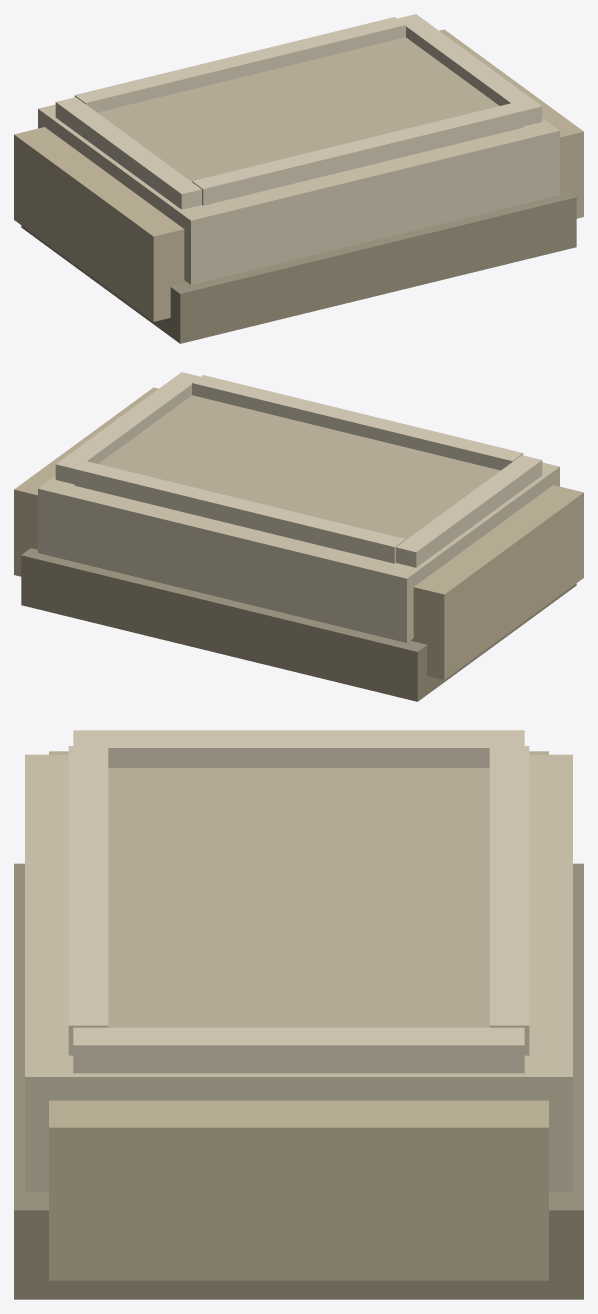
The model's file is CMU3DSoapBar.glb.
3 views of the same model, one above another, from view 1: azimuth 30°, elevation 25°; view 2: azimuth 150°, elevation 25°; view 3: azimuth 270°, elevation 25° (orthographic). The views are drawn at different scales.
Visible parts, largest first — view 1: soap rounded top, top inset, raised soap rim (×4), soap lower edge, soap body; view 2: soap rounded top, top inset, raised soap rim (×4), soap lower edge, soap body; view 3: top inset, soap body, raised soap rim (×4), soap rounded top, soap lower edge.
Part boxes in pixels (x1=…): soap rounded top: x1=38, y1=104, x2=559, y2=284; top inset: x1=97, y1=37, x2=499, y2=181; raised soap rim (×4): x1=55, y1=14, x2=542, y2=209; soap lower edge: x1=21, y1=190, x2=576, y2=343; soap body: x1=14, y1=29, x2=583, y2=321; soap rounded top: x1=38, y1=462, x2=559, y2=642; top inset: x1=98, y1=395, x2=500, y2=539; raised soap rim (×4): x1=55, y1=372, x2=542, y2=567; soap lower edge: x1=21, y1=548, x2=576, y2=701; soap body: x1=14, y1=387, x2=583, y2=679; top inset: x1=108, y1=768, x2=489, y2=1027; soap body: x1=49, y1=751, x2=548, y2=1280; raised soap rim (×4): x1=68, y1=730, x2=529, y2=1073; soap rounded top: x1=25, y1=754, x2=572, y2=1192; soap lower edge: x1=14, y1=863, x2=583, y2=1299.
Bounding box in the file's own units: 0.406 × 0.121 × 0.26.
